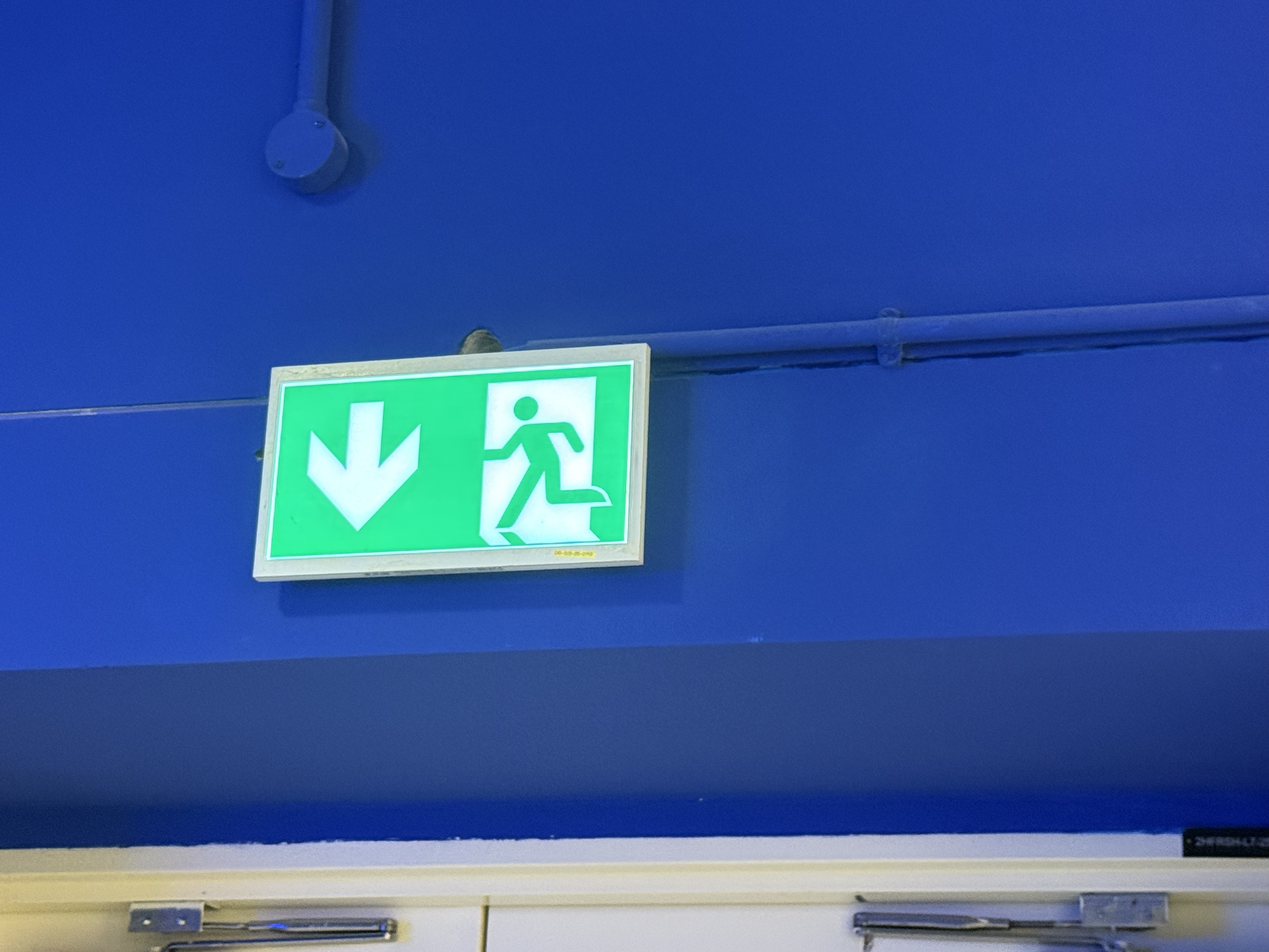emergency_exit: (251, 341, 651, 582)
